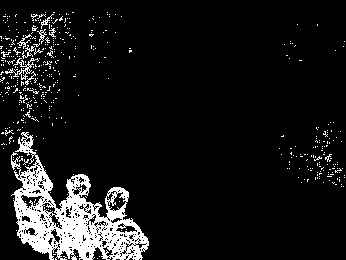person: (91, 179, 150, 260), (55, 166, 98, 260), (12, 172, 56, 257), (8, 133, 53, 193)
